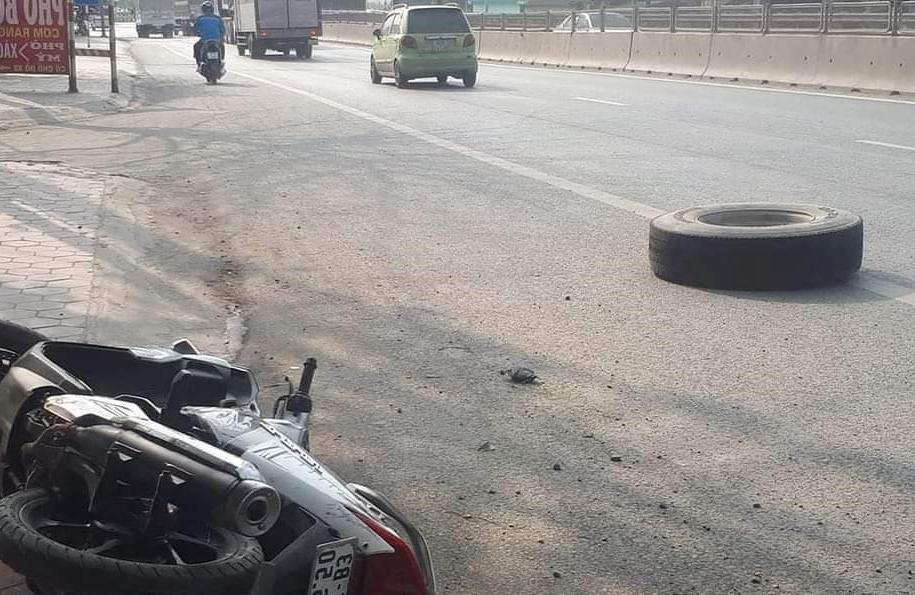ROAD_OBSTACLE: (650, 345, 863, 488)
